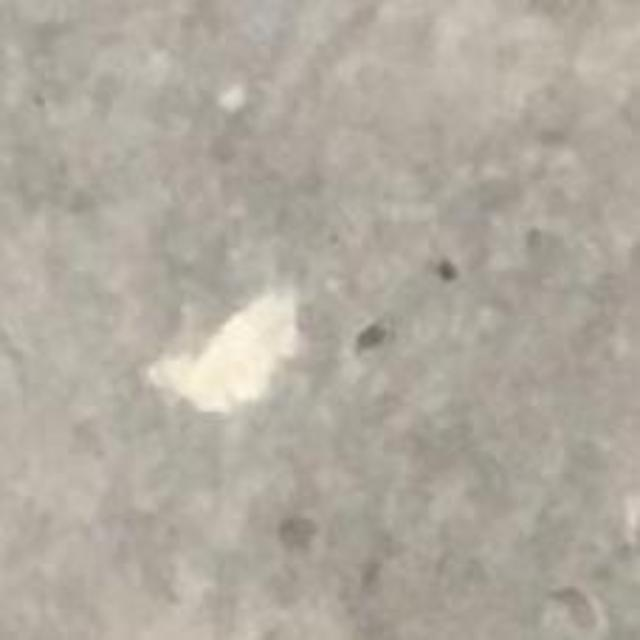peeling plaster: (147, 288, 301, 414)
